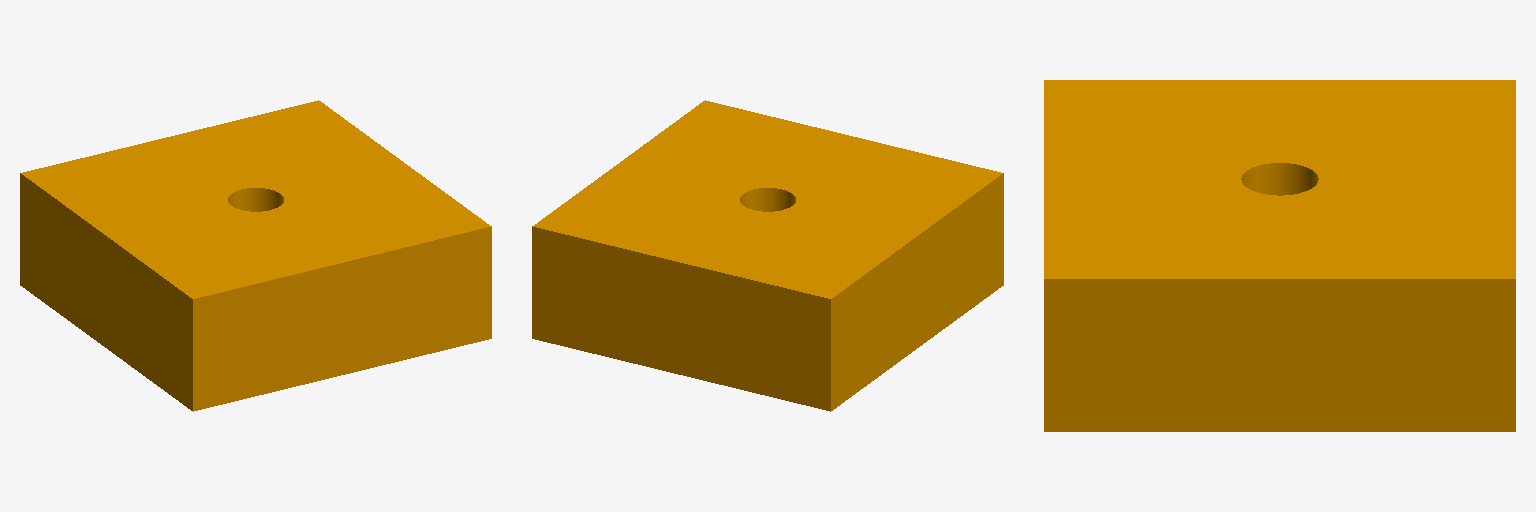
The robot description file, URDF, robot "factory_round_hole_4mm":
<?xml version="1.0"?>
<robot name="factory_round_hole_4mm">
    <link name="factory_round_hole_4mm">
        <visual>
            <geometry>
                <mesh filename="../mesh/factory_insertion/factory_round_hole_4mm_subdiv_3x.obj"/>
            </geometry>
        </visual>
        <collision>
            <geometry>
                <mesh filename="../mesh/factory_insertion/factory_round_hole_4mm_subdiv_3x.obj"/>
            </geometry>
            <sdf resolution="256"/>
        </collision>
    </link>
</robot>

--- What the picture shows (computed from the rendered views, not written in the file) ---
The picture shows the robot from 3 angles, left to right: view 1: azimuth 30°, elevation 25°; view 2: azimuth 150°, elevation 25°; view 3: azimuth 270°, elevation 25°; orthographic projection.
Model factory_round_hole_4mm with 1 links and 0 joints (none), rooted at factory_round_hole_4mm, posed all joints at 0.
Links seen in each view (by area): view 1: factory_round_hole_4mm; view 2: factory_round_hole_4mm; view 3: factory_round_hole_4mm.
Boxes of the visible links, x1,y1,x2,y2 form: factory_round_hole_4mm: (20, 100, 491, 411); factory_round_hole_4mm: (532, 100, 1003, 411); factory_round_hole_4mm: (1044, 80, 1515, 431).
Size in the robot's own frame: 0.025 by 0.025 by 0.009 metres.
Meshes: 1 distinct files referenced, 1 mesh visuals loaded (1 OBJ).